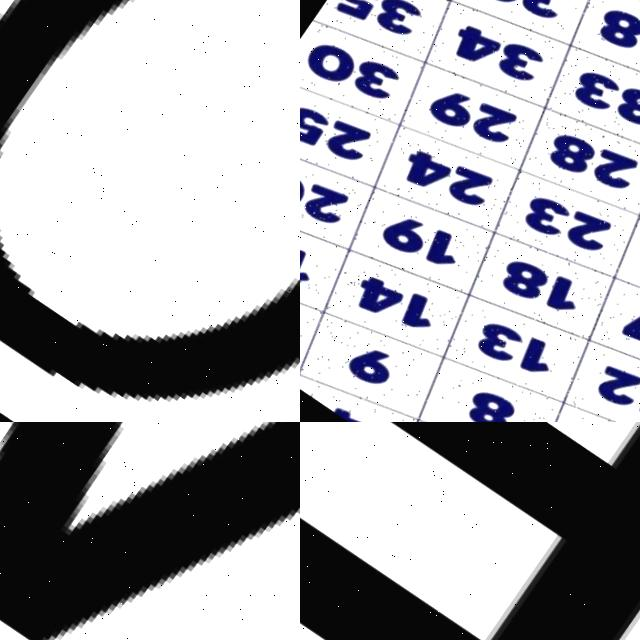0: (300, 23, 372, 109), (300, 149, 313, 228)
1: (524, 266, 596, 339), (497, 329, 567, 400), (409, 222, 472, 288), (387, 286, 448, 349), (300, 235, 326, 302)
2: (454, 91, 532, 170), (308, 105, 383, 182), (430, 155, 503, 228), (548, 202, 618, 273), (575, 141, 640, 216), (573, 355, 640, 422), (300, 172, 357, 246), (621, 229, 640, 309)
3: (552, 58, 630, 137), (482, 31, 558, 108), (502, 182, 577, 258), (336, 46, 411, 122), (454, 308, 526, 381), (357, 0, 435, 58), (506, 0, 577, 42), (599, 78, 640, 149)
4: (380, 130, 467, 218), (427, 10, 511, 95), (334, 258, 412, 339), (314, 385, 379, 422)
5: (316, 0, 394, 44), (300, 86, 340, 166)
7: (597, 290, 640, 373)
8: (480, 247, 556, 325), (529, 121, 605, 199), (581, 0, 640, 75), (440, 372, 528, 422)
9: (326, 328, 409, 412), (411, 75, 489, 152), (365, 202, 435, 274), (459, 0, 538, 28)
A: (0, 422, 300, 640)
F: (300, 422, 640, 640)
